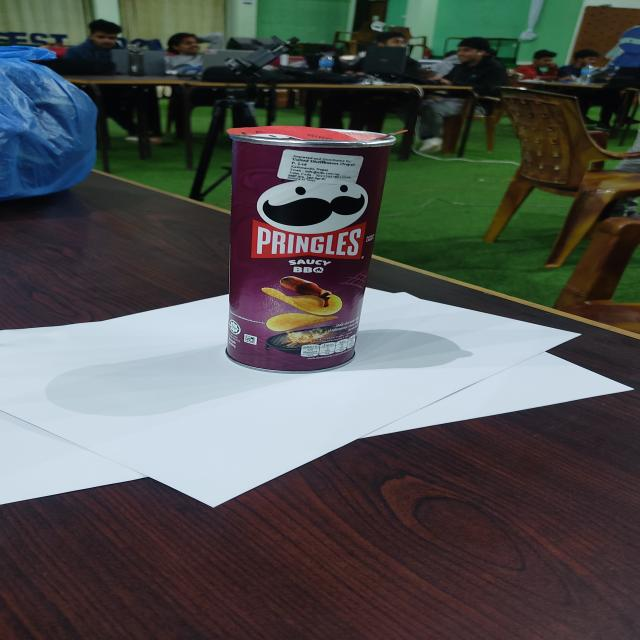Pringles: (224, 125, 398, 373)
